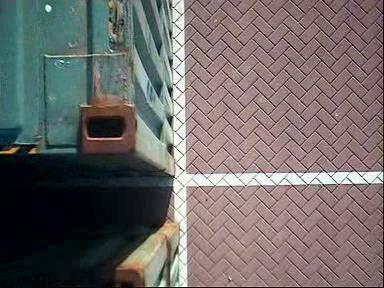groundmarker_2: (18, 165, 87, 248)
